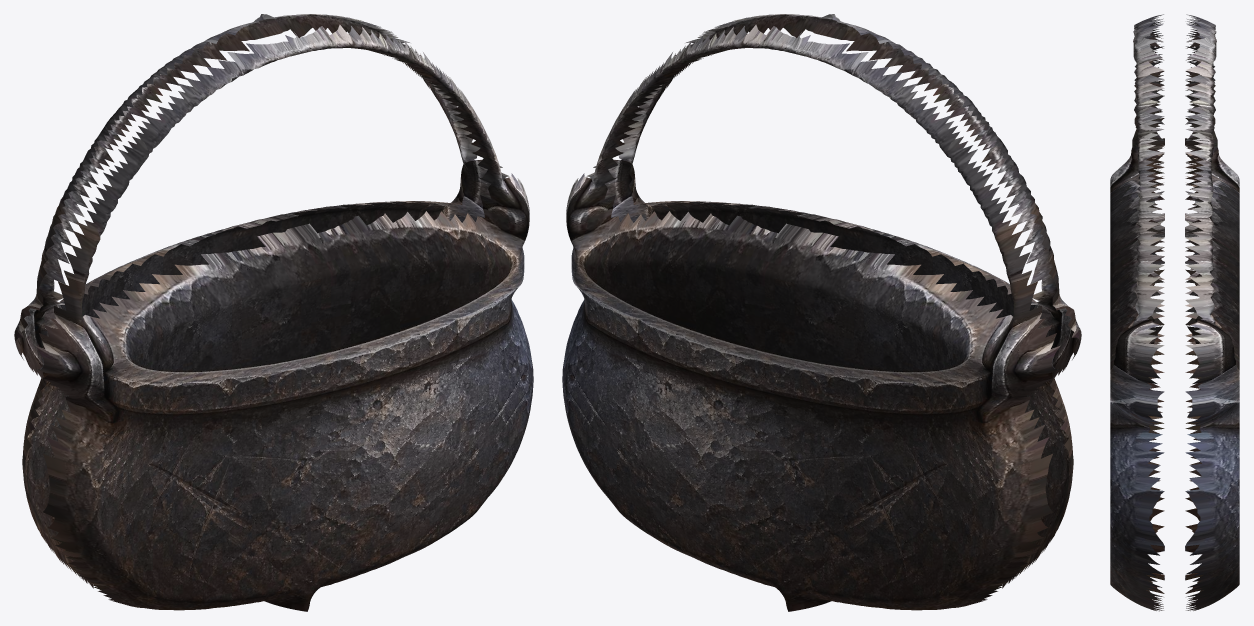
The model's file is v4-prop-cooking-pot.glb.
3 renders of one model, left to right at view 1: azimuth 30°, elevation 25°; view 2: azimuth 150°, elevation 25°; view 3: azimuth 270°, elevation 25°, orthographic. The views are drawn at different scales.
Parts seen in each view (by area): view 1: v4-prop-cooking-pot; view 2: v4-prop-cooking-pot; view 3: v4-prop-cooking-pot.
Boxes of the visible parts, x1,y1,x2,y2 form: v4-prop-cooking-pot: (14,14,533,611); v4-prop-cooking-pot: (562,14,1081,611); v4-prop-cooking-pot: (1110,14,1239,611).
Size of the model in its own units: 0.7256 by 0.7944 by 0.1768.
1 material, 1 textured.
